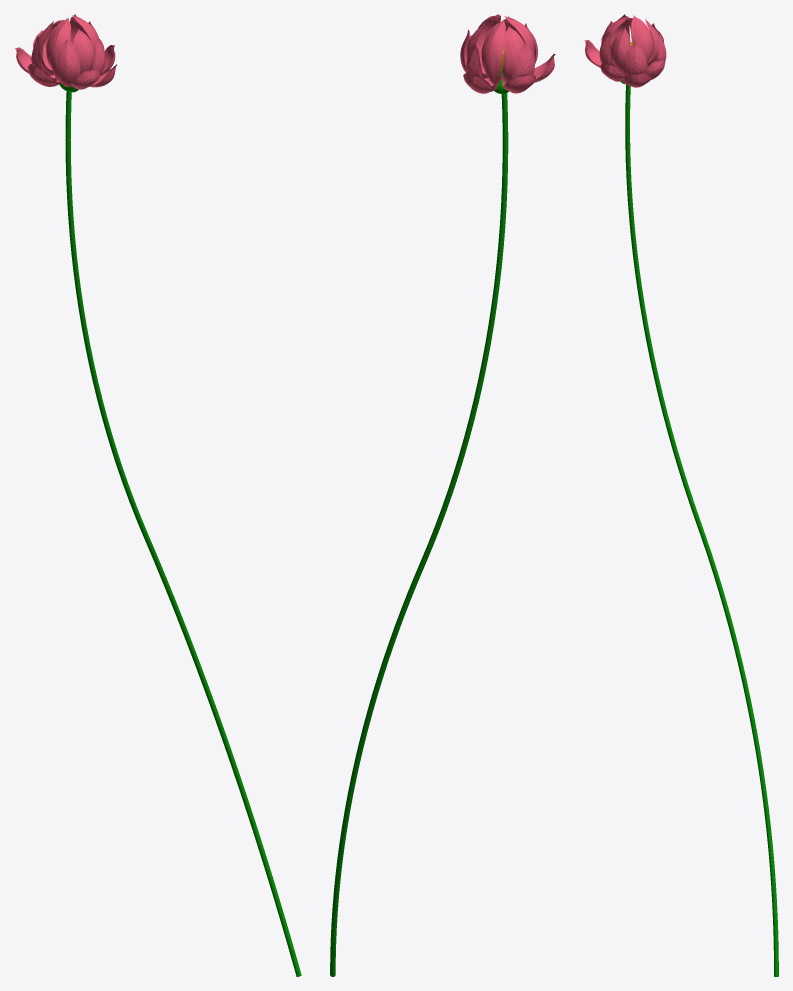
File: Lotus050.fbx
The picture shows the model from 3 angles, left to right: view 1: azimuth 30°, elevation 25°; view 2: azimuth 150°, elevation 25°; view 3: azimuth 330°, elevation 25°; orthographic projection. The views are drawn at different scales.
Visible parts, largest first — view 1: pCylinder5, nurbsToPoly16, nurbsToPoly21; view 2: pCylinder5, nurbsToPoly23, nurbsToPoly20, nurbsToPoly14; view 3: pCylinder5, nurbsToPoly22, nurbsToPoly13, nurbsToPoly18.
Part boxes in pixels (box(x1,y1,x2,y2)): pCylinder5: box(65, 91, 301, 976); nurbsToPoly16: box(53, 39, 80, 87); nurbsToPoly21: box(46, 17, 70, 69); pCylinder5: box(330, 93, 508, 976); nurbsToPoly23: box(481, 19, 505, 84); nurbsToPoly20: box(501, 26, 524, 83); nurbsToPoly14: box(505, 43, 534, 83); pCylinder5: box(625, 84, 778, 976); nurbsToPoly22: box(631, 15, 653, 63); nurbsToPoly13: box(622, 42, 647, 75); nurbsToPoly18: box(611, 28, 630, 70).
Bounding box in the file's own units: 52.31 × 204 × 24.19.
